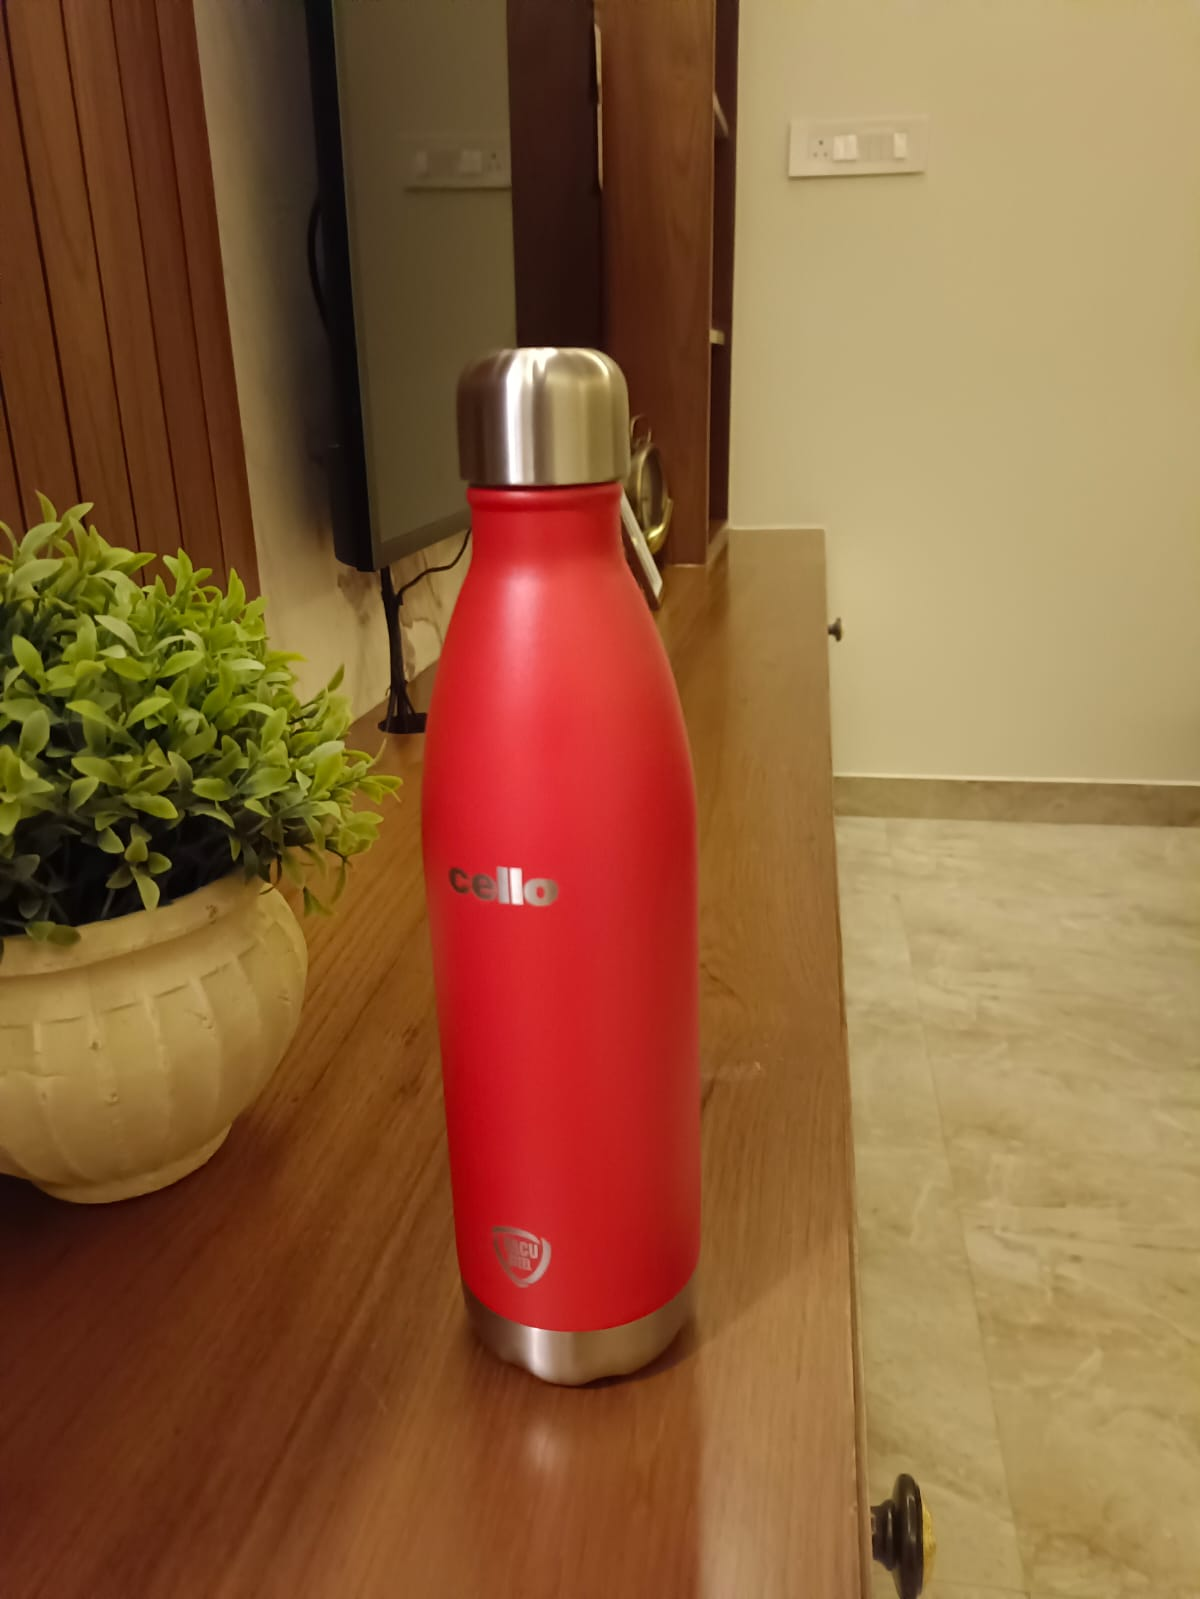bottle: (411, 333, 713, 1397)
